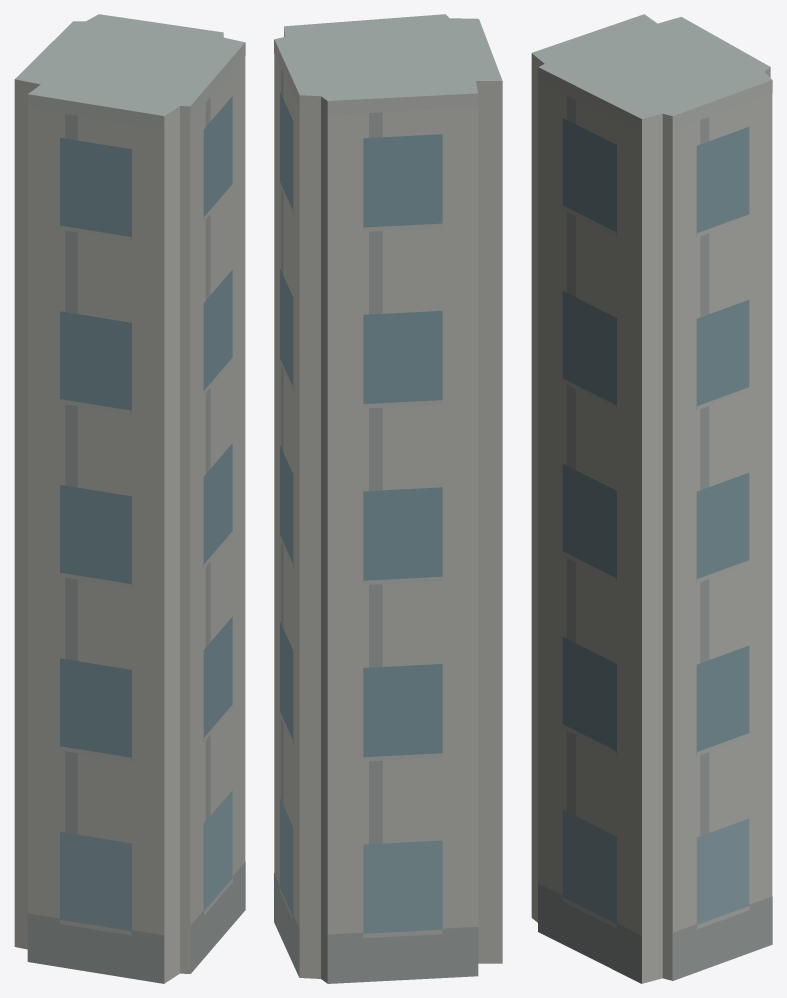
File: survey-upis-32904489.glb
3 renders of one model, left to right at view 1: azimuth 30°, elevation 25°; view 2: azimuth 150°, elevation 25°; view 3: azimuth 270°, elevation 25°, orthographic. The views are drawn at different scales.
Parts seen in each view (by area): view 1: survey-upis-32904489.tmp; view 2: survey-upis-32904489.tmp; view 3: survey-upis-32904489.tmp.
Part boxes in pixels (left/top/right/bottom): survey-upis-32904489.tmp: left=14, top=14, right=245, bottom=983; survey-upis-32904489.tmp: left=274, top=14, right=502, bottom=983; survey-upis-32904489.tmp: left=531, top=14, right=772, bottom=983.
Bounding box in the file's own units: 3.98 × 15.25 × 3.86.
